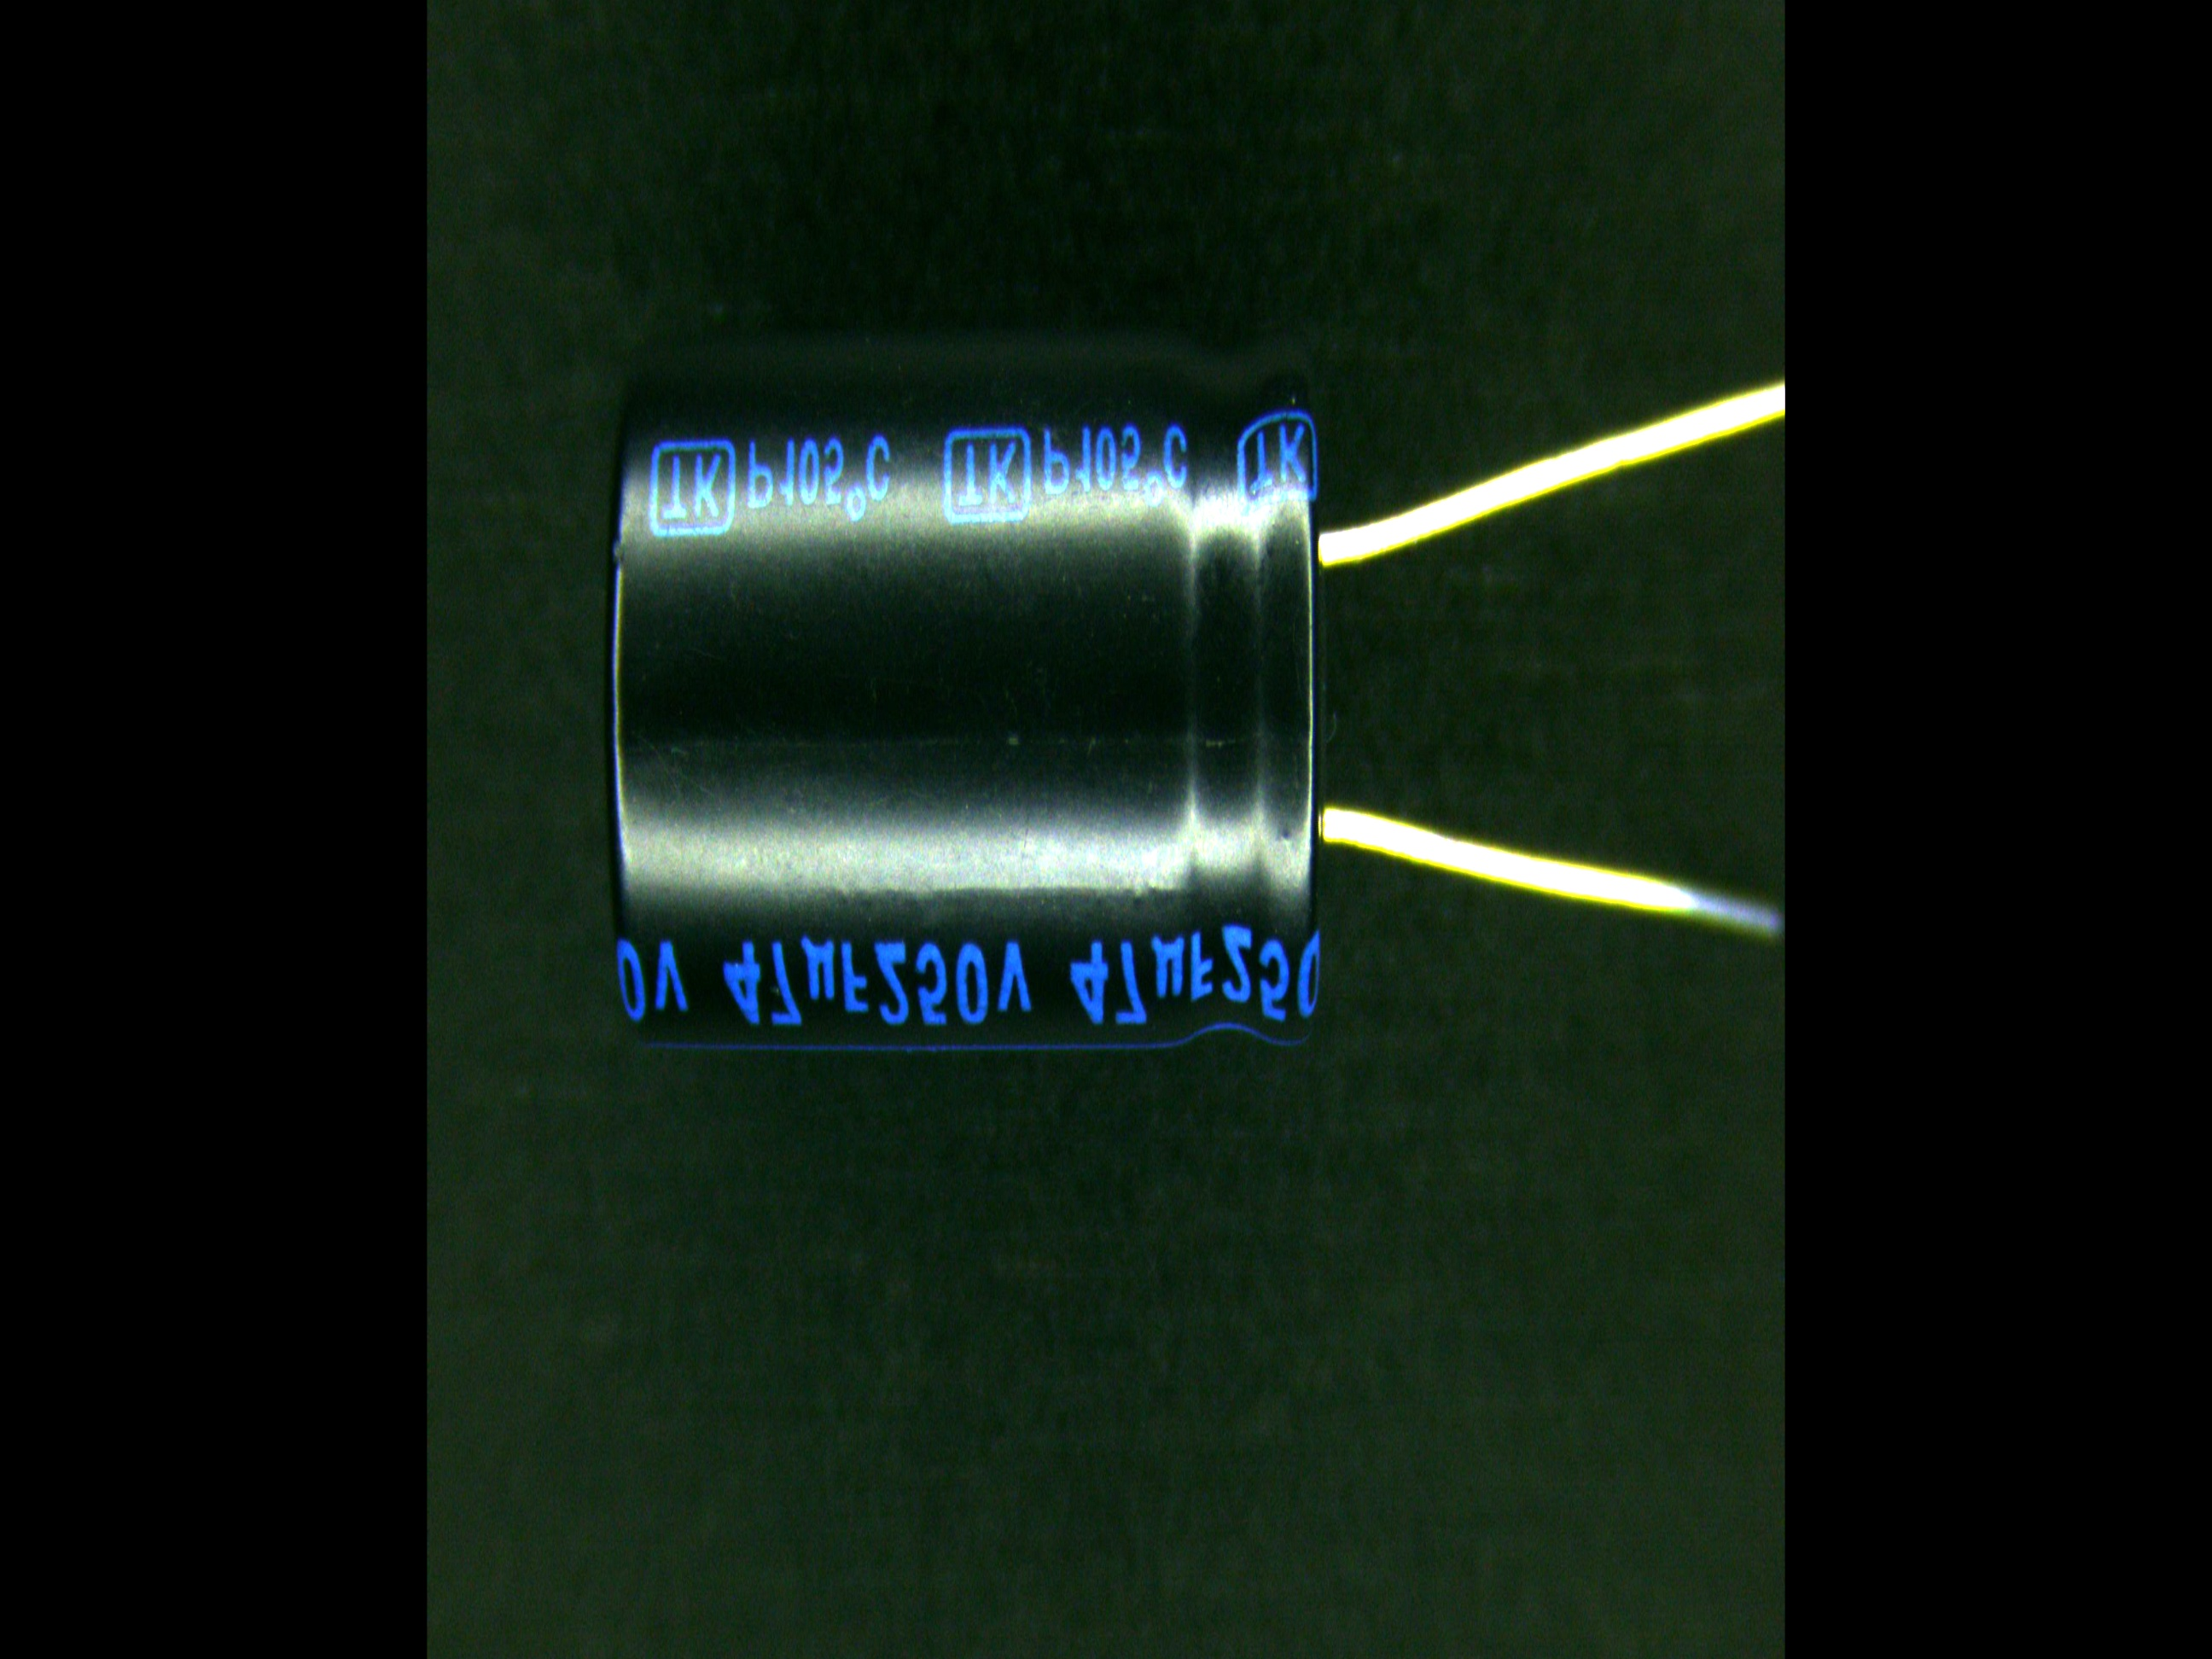c2: (599, 343, 1428, 1053)
